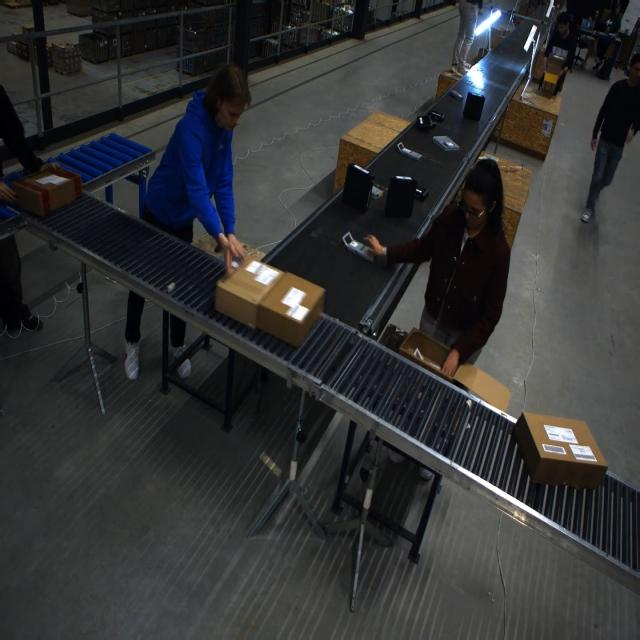box: (219, 257, 322, 345), (398, 327, 510, 403), (513, 412, 607, 489), (10, 163, 81, 218)
product: (320, 228, 385, 273), (341, 163, 375, 213), (384, 174, 417, 218), (462, 91, 486, 121), (396, 143, 422, 160), (433, 135, 459, 151), (416, 114, 435, 131), (429, 110, 445, 123), (449, 89, 463, 101)
